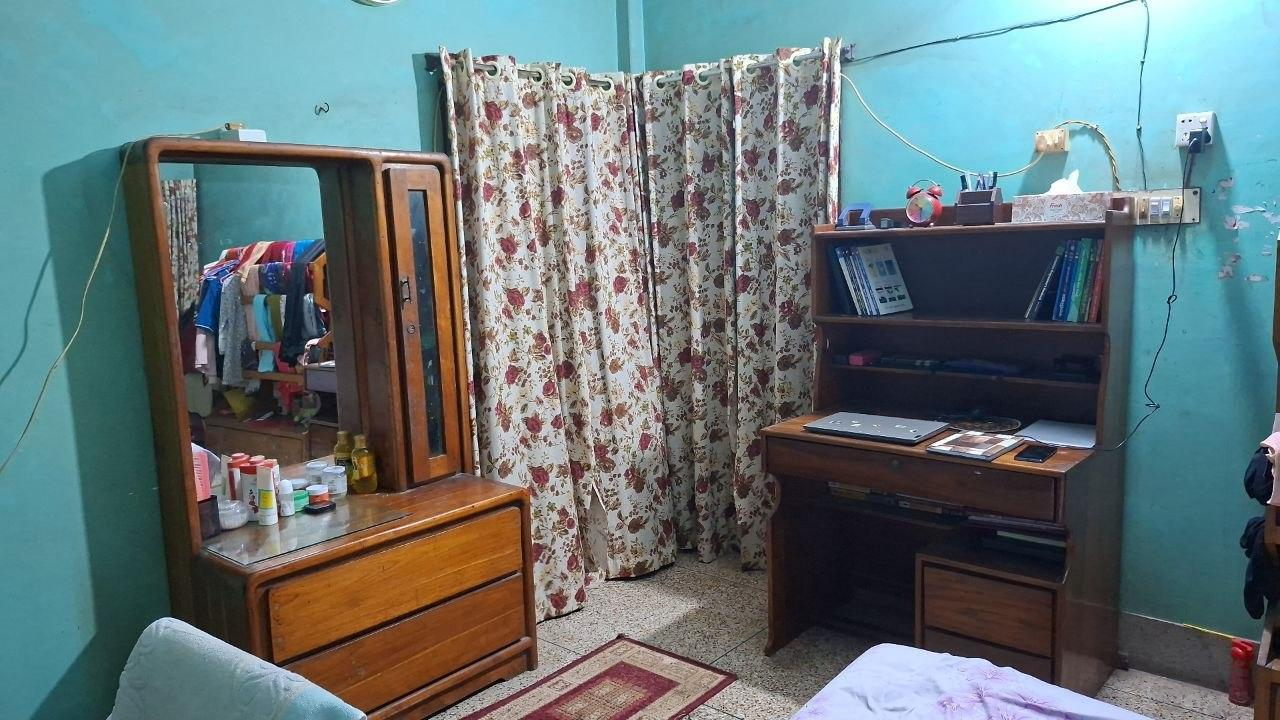Book: (823, 242, 919, 317), (1017, 242, 1098, 328)
Box: (1015, 192, 1105, 226)
Clock: (898, 186, 952, 226)
Drawer: (257, 507, 541, 720), (925, 562, 1063, 658)
Floor Mat: (472, 637, 743, 720)
Laptop: (800, 409, 954, 451)
Mirror: (155, 157, 374, 528)
Notebook: (931, 422, 1013, 464)
Pen Stand: (946, 177, 1002, 226)
Phone: (1011, 436, 1054, 468)
